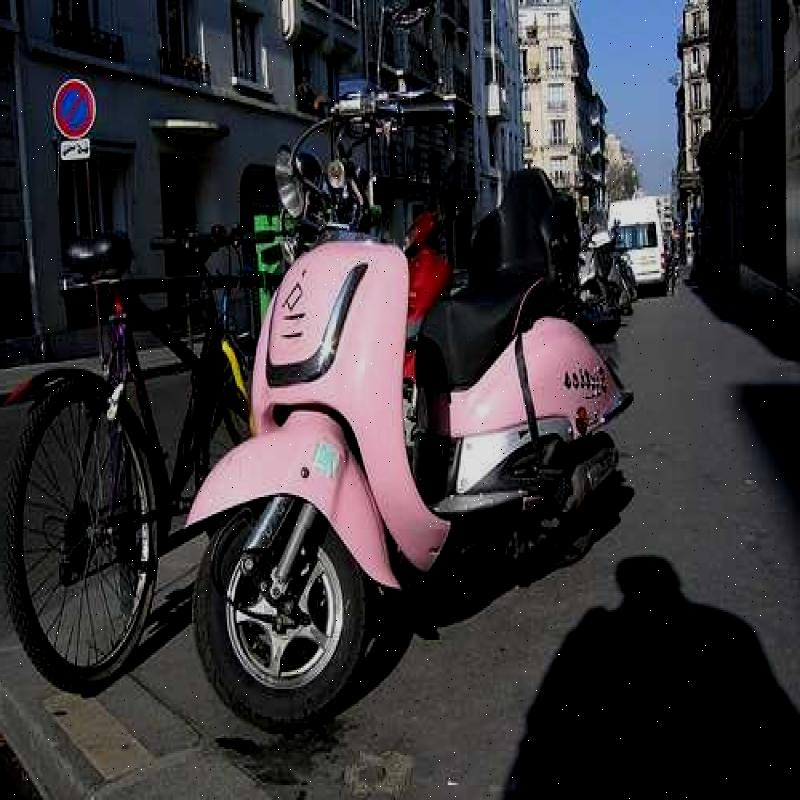bike: (203, 134, 641, 699)
